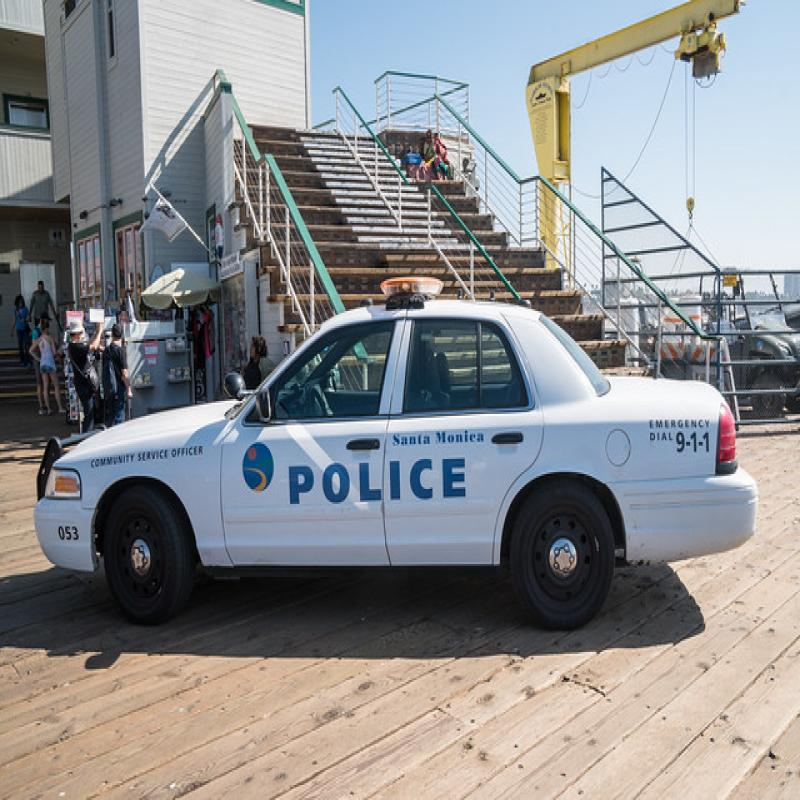AmbulanceSiren: (365, 256, 452, 313)
